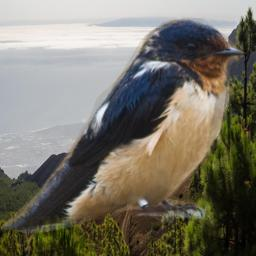Swallow: (1, 17, 247, 234)
